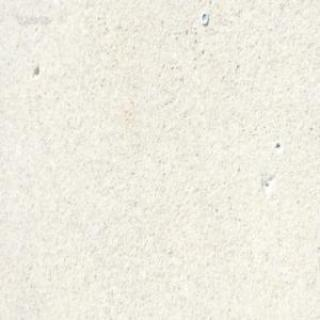Washertrack_idkeyframe: (200, 10, 208, 25)
